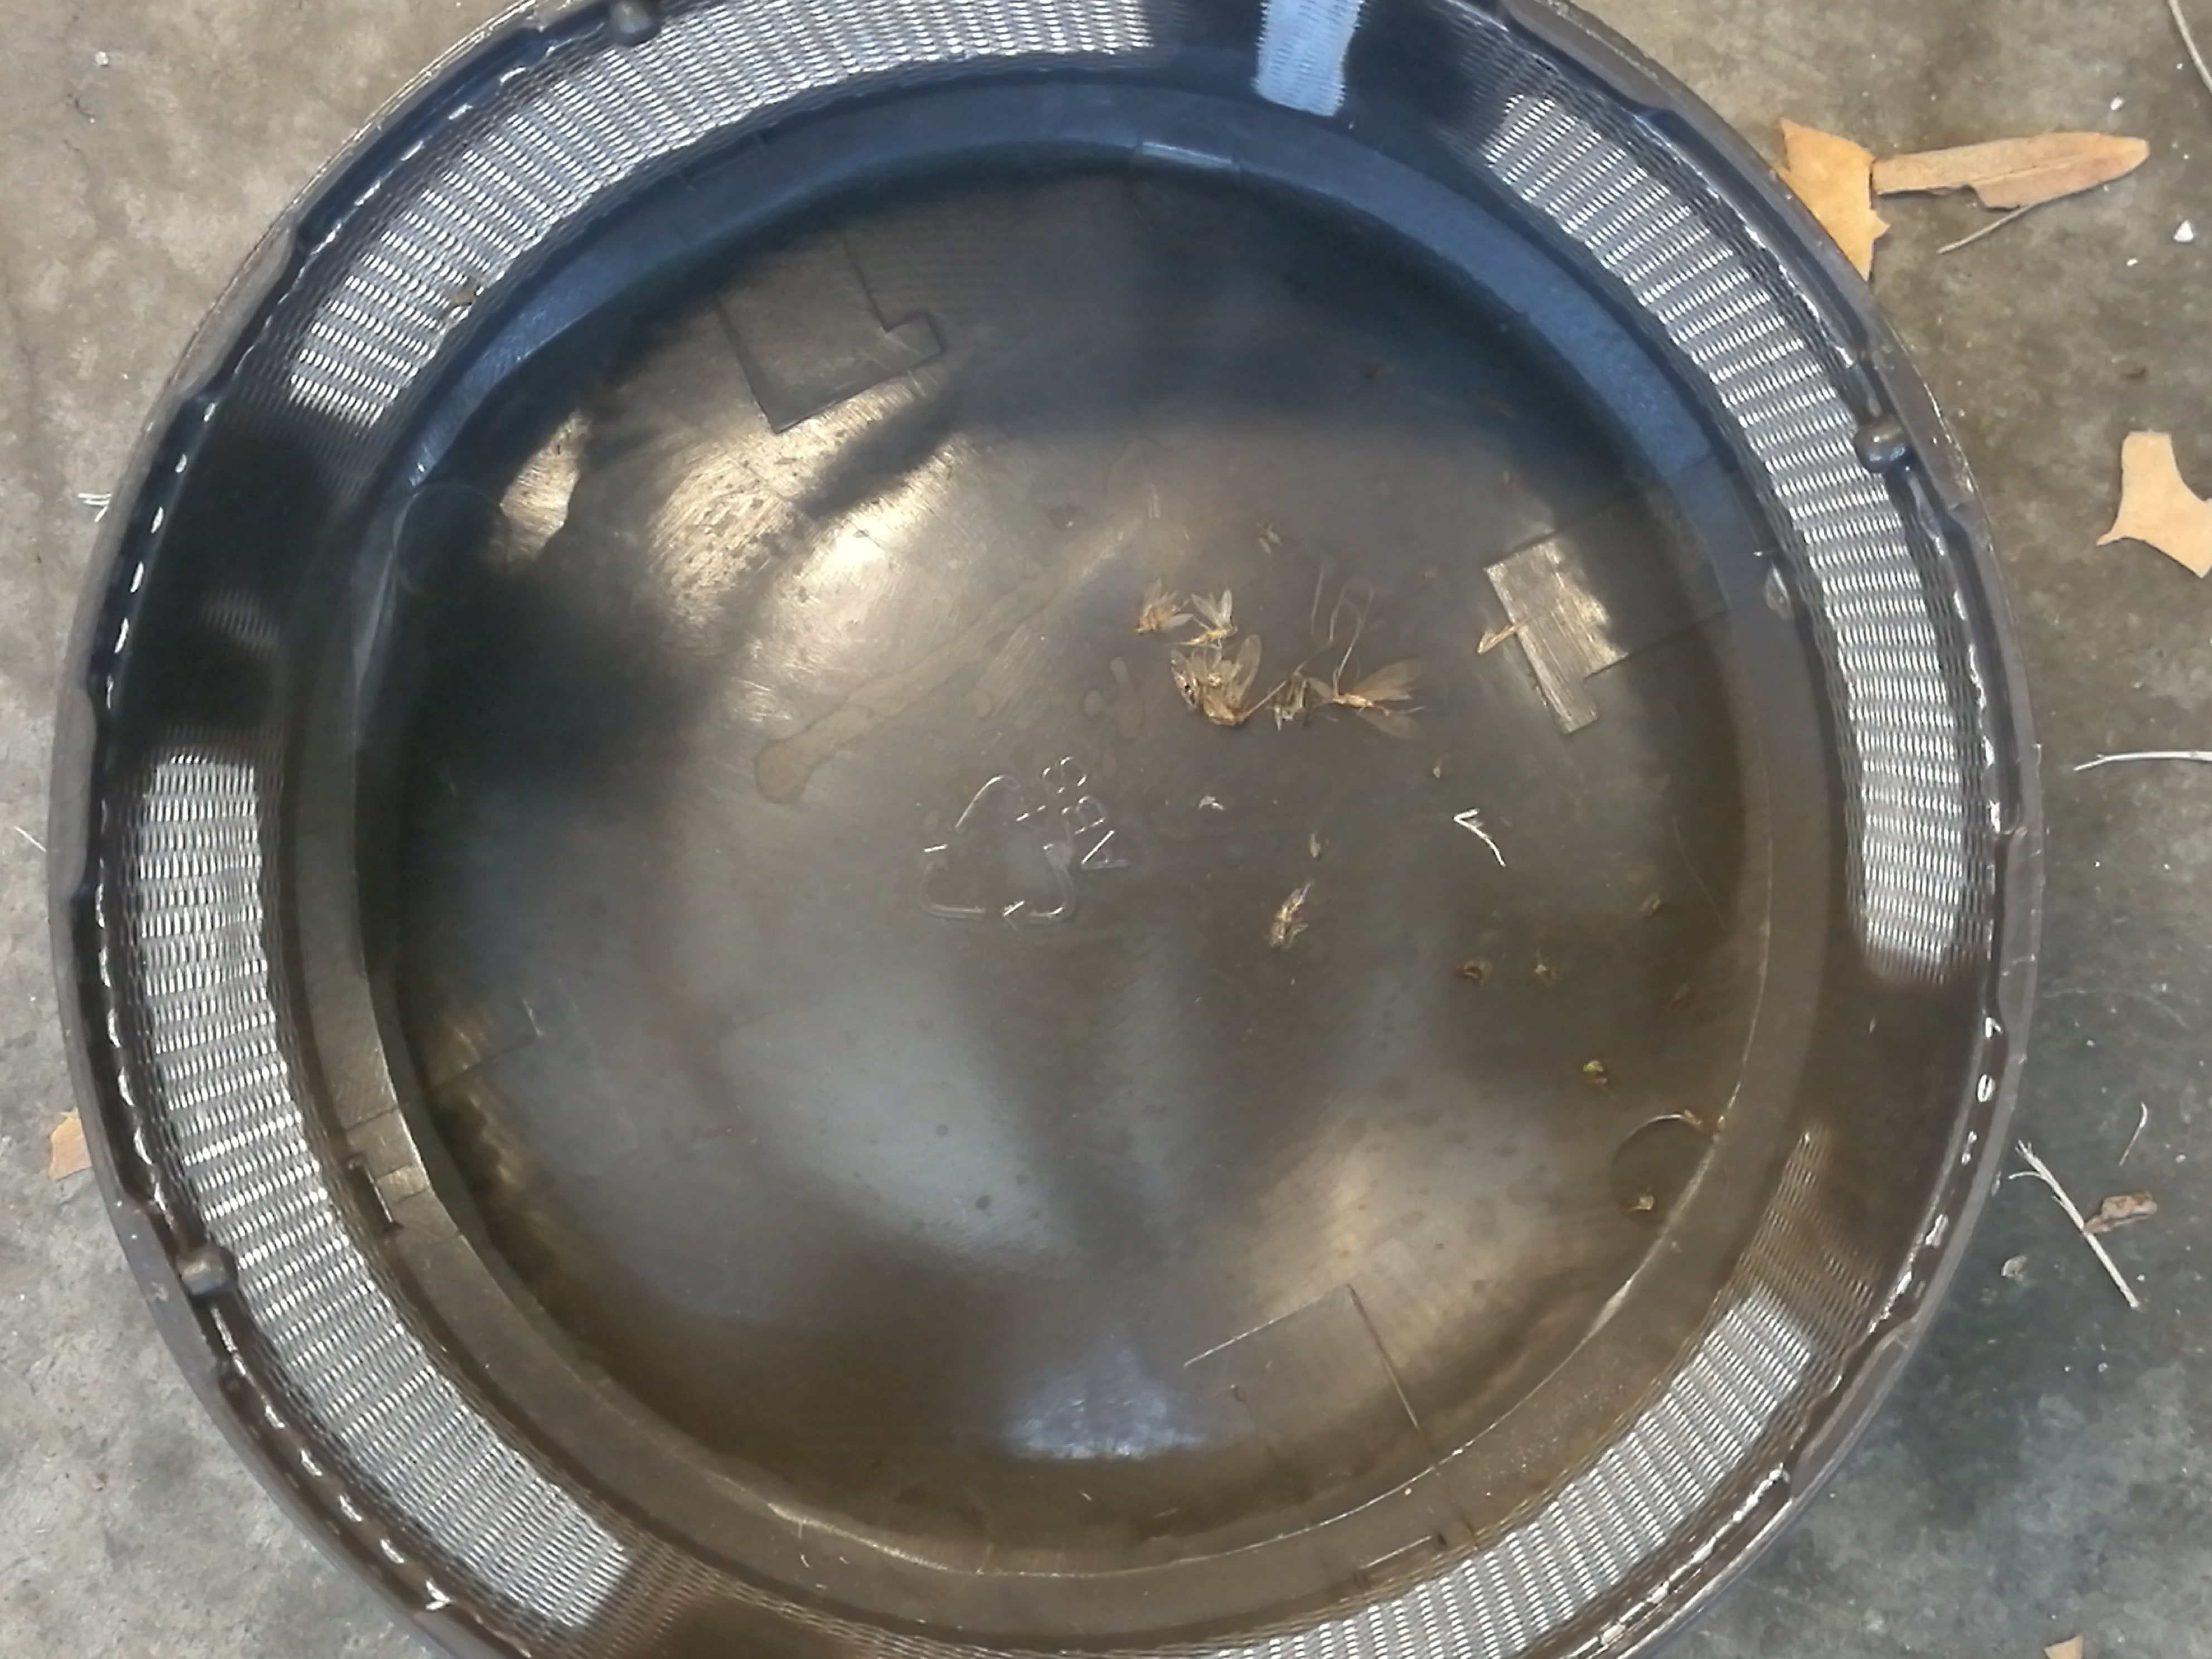mosquito: (1141, 577, 1191, 629), (1193, 587, 1235, 634), (1294, 671, 1334, 718)
moth: (1172, 634, 1264, 725), (1339, 659, 1423, 735)
